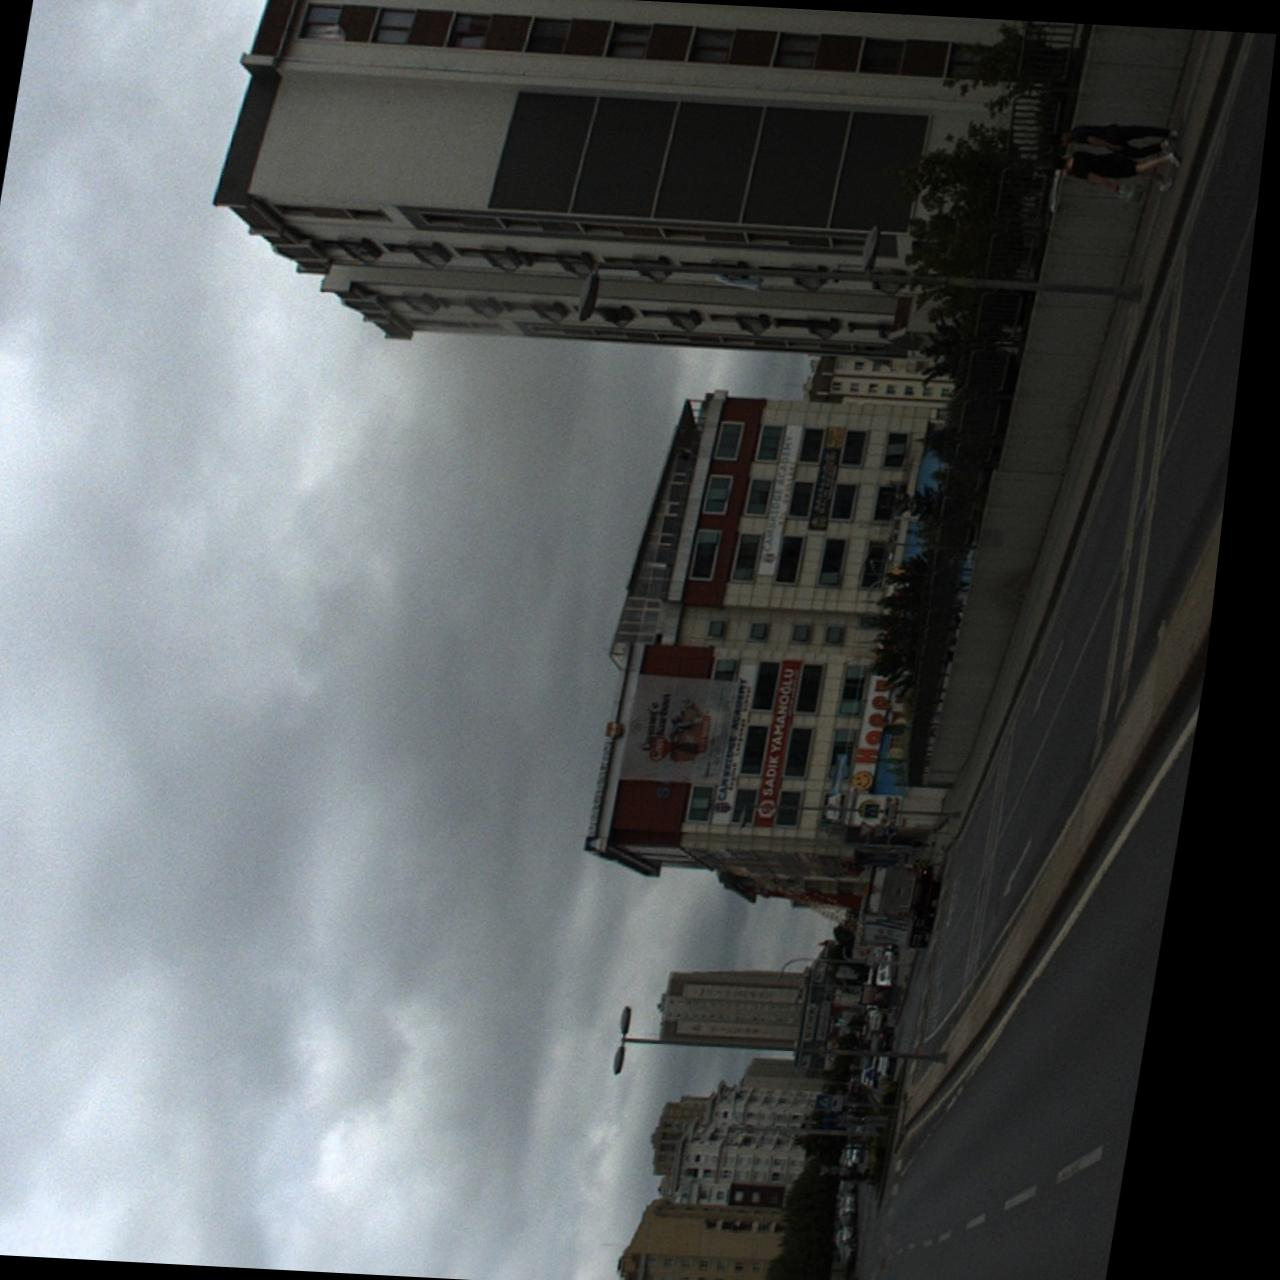SignStore: (774, 660, 818, 825), (730, 663, 774, 823), (771, 424, 813, 574), (867, 674, 910, 792), (821, 425, 856, 529)
